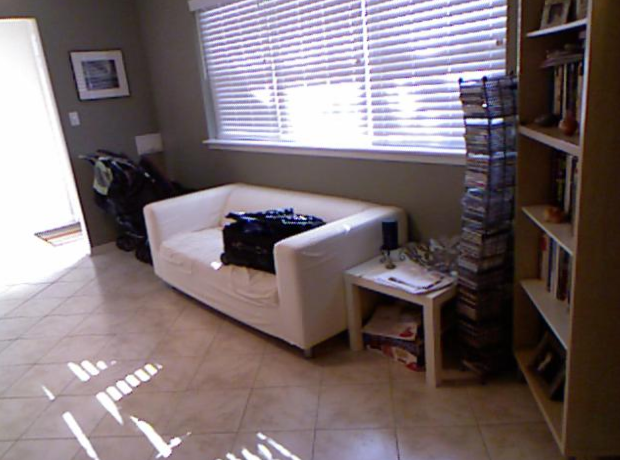couch: (145, 183, 342, 349)
table: (345, 255, 453, 382)
window: (220, 1, 467, 138)
